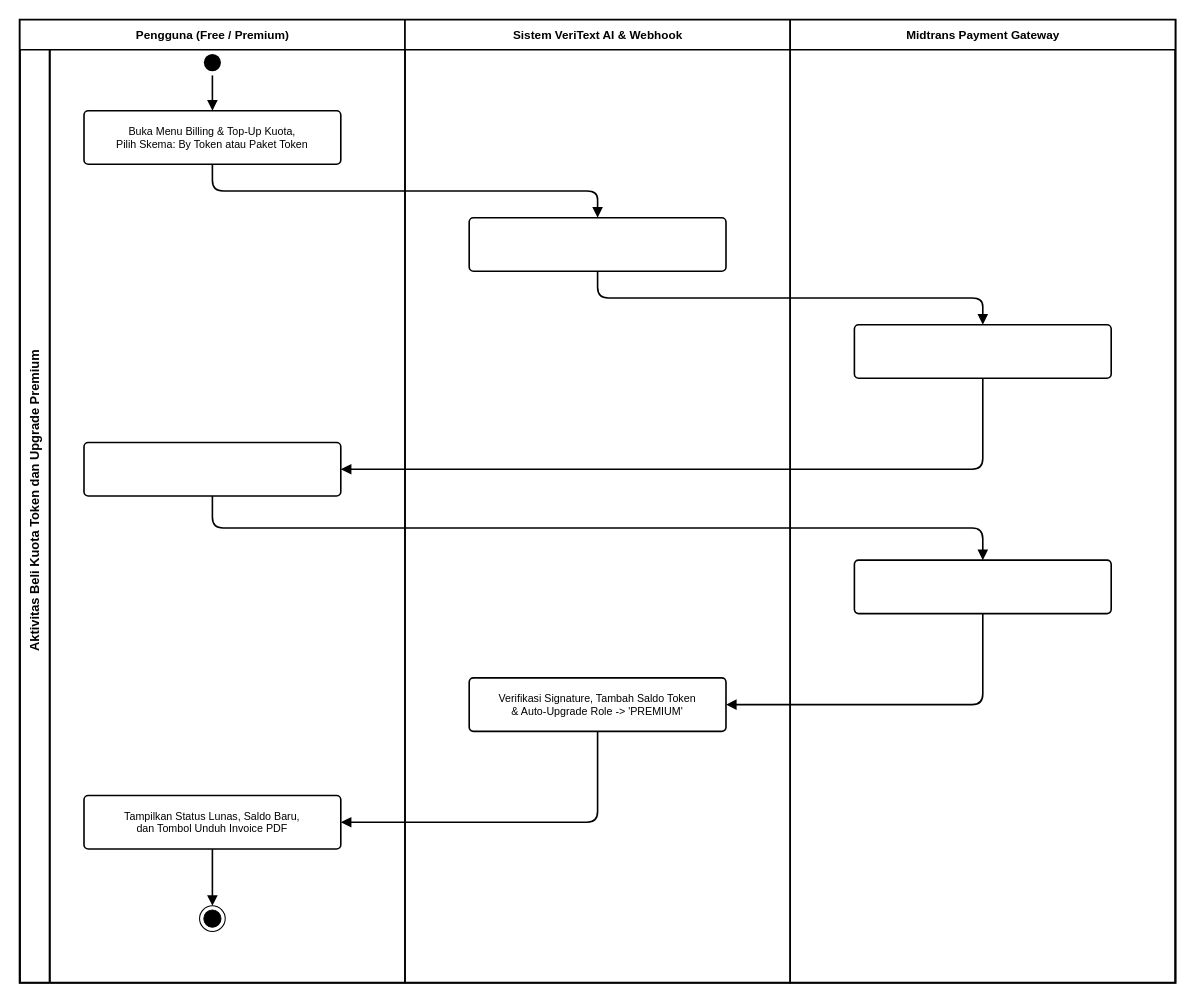
Some shapes in this 1194 by 1002 pixel diagram are drawn without their labels. The centre of each missing label's shape, as x and y in pixels:
"Kirim HTTP POST Webhook Notifikasi (Signature Key SHA-512)" belongs at pixel 982 586.
"Pilih Metode (QRIS, VA, Kartu) dan Selesaikan Pembayaran" belongs at pixel 212 468.
"Request Snap Token ke Midtrans API & Tampilkan Pop-up Pembayaran Snap" belongs at pixel 982 351.
"Validasi Input (Min. 5 Token) & Buat Record Invoice PENDING di Database" belongs at pixel 597 244.
